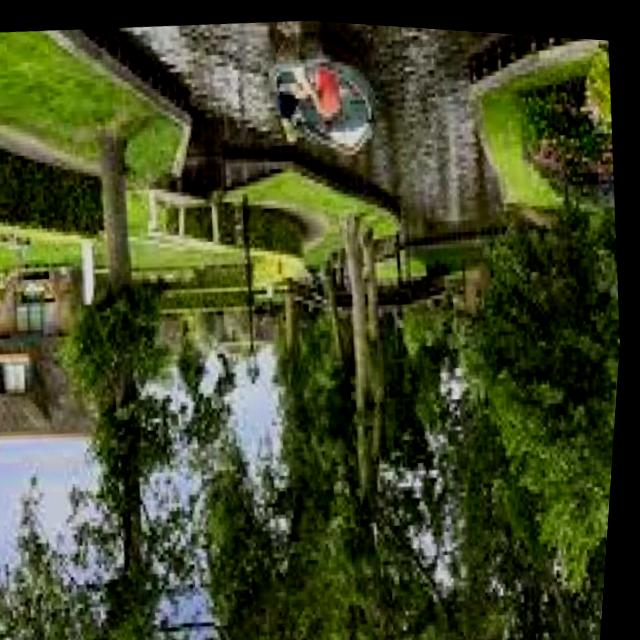ship2: (278, 35, 378, 146)
